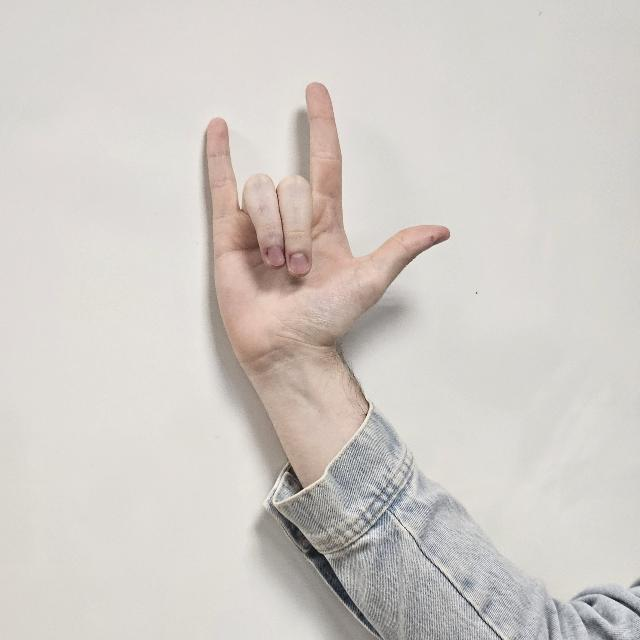Cima: (198, 80, 454, 384)
